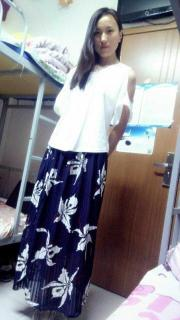short sleeve top: (47, 61, 134, 153)
skirt: (13, 138, 108, 318)
